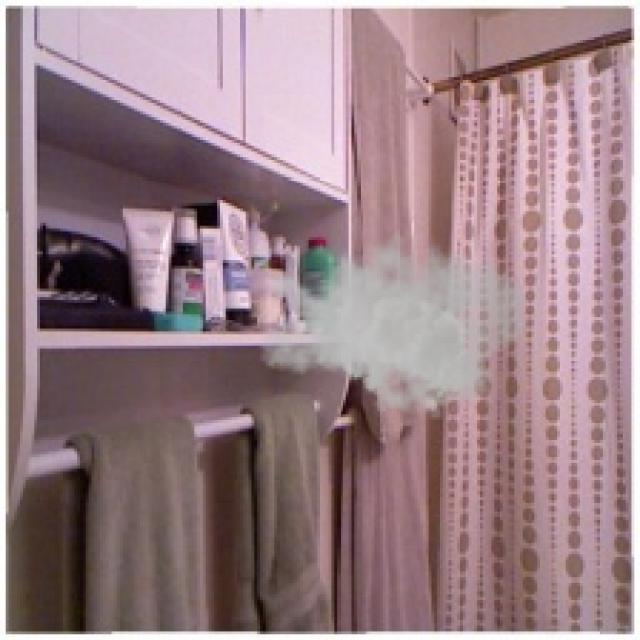smoke: (257, 220, 529, 420)
